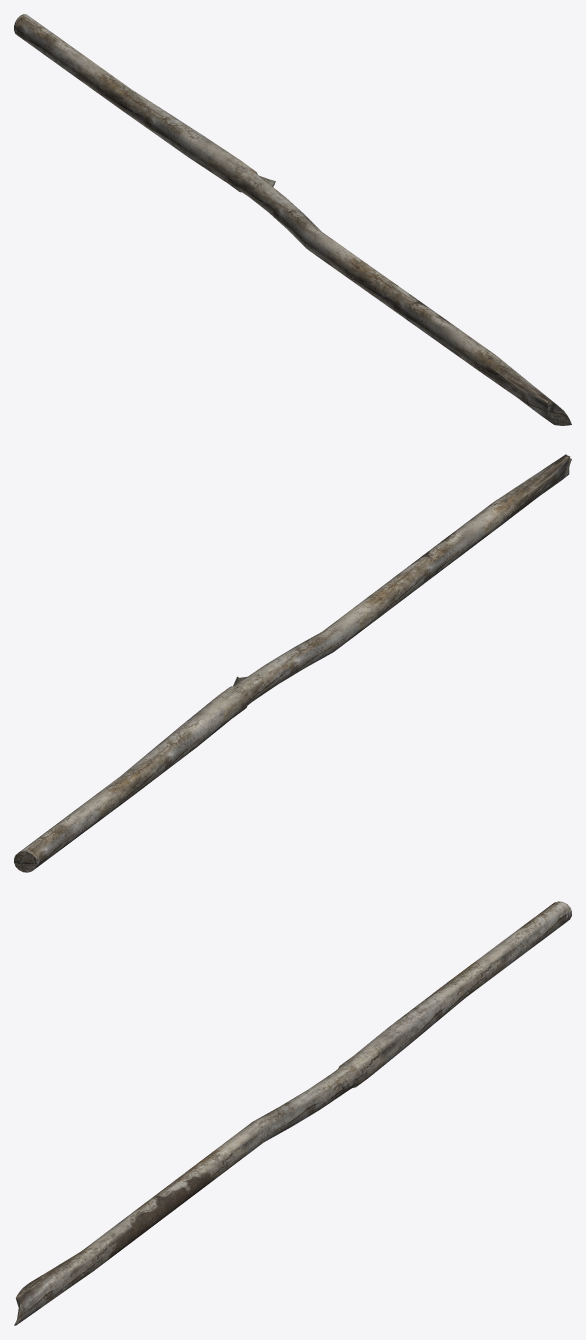
The model's file is SM_Twigs_1.fbx.
The picture shows the model from 3 angles, top to bottom: view 1: azimuth 30°, elevation 25°; view 2: azimuth 150°, elevation 25°; view 3: azimuth 330°, elevation 25°; orthographic projection. The views are drawn at different scales.
Parts seen in each view (by area): view 1: SM_Twigs_1_LOD0; view 2: SM_Twigs_1_LOD0; view 3: SM_Twigs_1_LOD0.
Part boxes in pixels (box(x1,y1,x2,y2)): SM_Twigs_1_LOD0: box(14, 14, 571, 425); SM_Twigs_1_LOD0: box(14, 454, 571, 872); SM_Twigs_1_LOD0: box(14, 901, 571, 1325).
Bounding box in the file's own units: 4.23 × 115 × 2.77.
